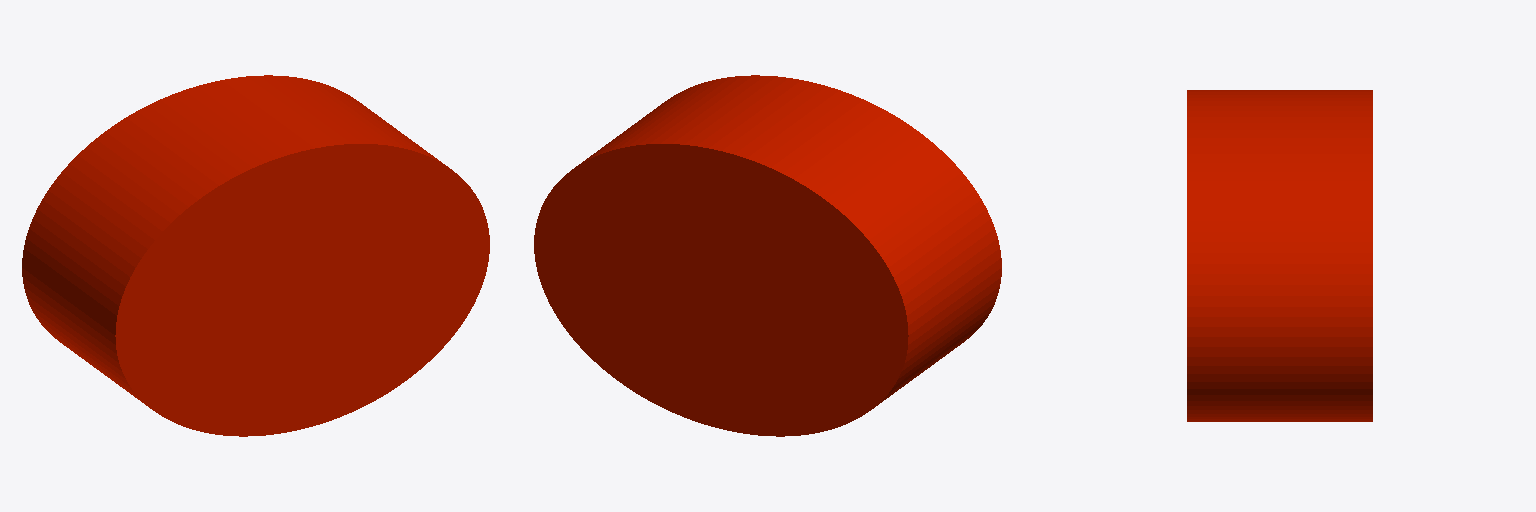
Rendered from Oval.obj.
The picture shows the model from 3 angles: view 1: azimuth 30°, elevation 25°; view 2: azimuth 150°, elevation 25°; view 3: azimuth 270°, elevation 25°; orthographic projection.
Parts seen in each view (by area): view 1: Curve; view 2: Curve; view 3: Curve.
Boxes of the visible parts, x1,y1,x2,y2 form: Curve: [22, 75, 489, 436]; Curve: [534, 75, 1001, 436]; Curve: [1187, 90, 1372, 421].
Size of the model in its own units: 0.0337 by 0.0239 by 0.0146.